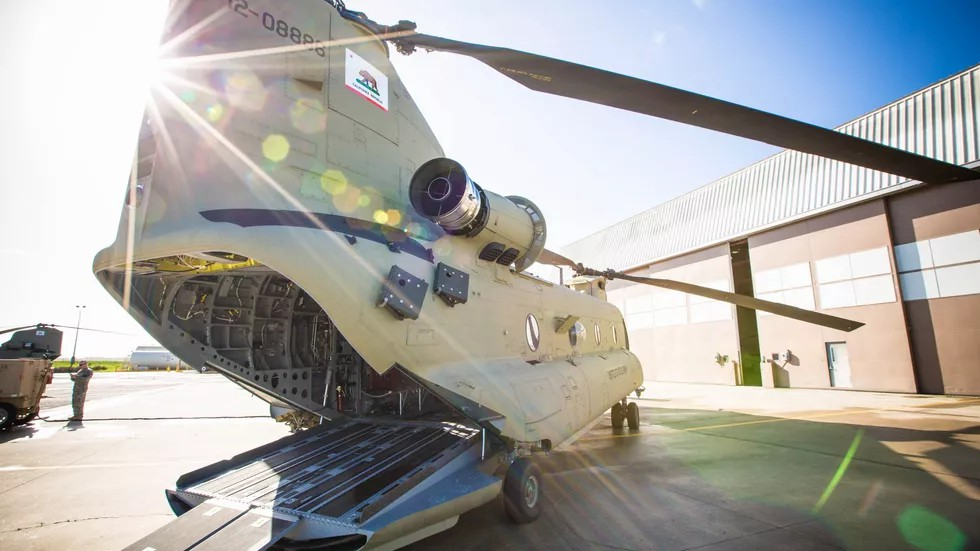chinook: (36, 7, 697, 544)
